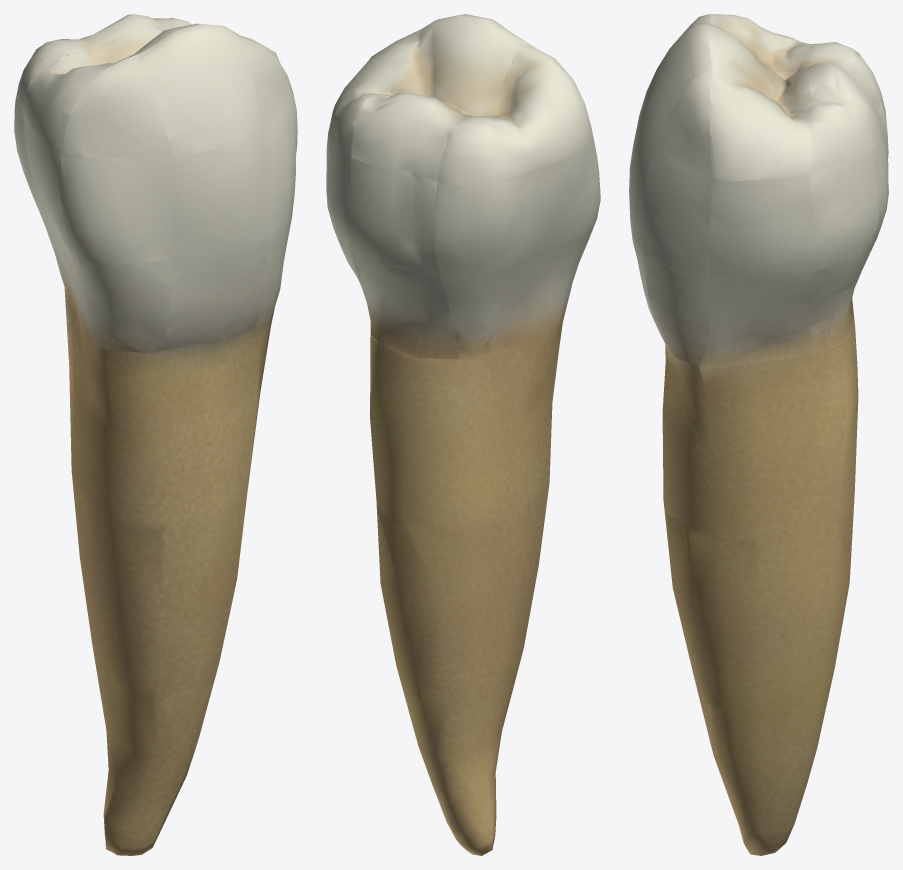
Rendered from Left_Lower_Second_Premolar.glb.
The picture shows the model from 3 angles, left to right: view 1: azimuth 30°, elevation 25°; view 2: azimuth 150°, elevation 25°; view 3: azimuth 270°, elevation 25°; orthographic projection. The views are drawn at different scales.
Parts seen in each view (by area): view 1: Human_Teeth_Lower_Second_Premolar_Geo; view 2: Human_Teeth_Lower_Second_Premolar_Geo; view 3: Human_Teeth_Lower_Second_Premolar_Geo.
Boxes of the visible parts, bbox=[...] form: Human_Teeth_Lower_Second_Premolar_Geo: bbox=[14, 14, 297, 855]; Human_Teeth_Lower_Second_Premolar_Geo: bbox=[326, 14, 600, 855]; Human_Teeth_Lower_Second_Premolar_Geo: bbox=[629, 14, 888, 855].
Size of the model in its own units: 0.9402 by 3.07 by 0.8644.
30 materials, 30 textured.
